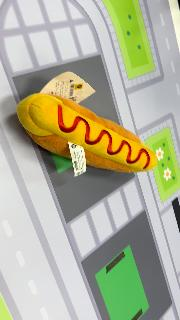hotdog: (16, 92, 158, 174)
